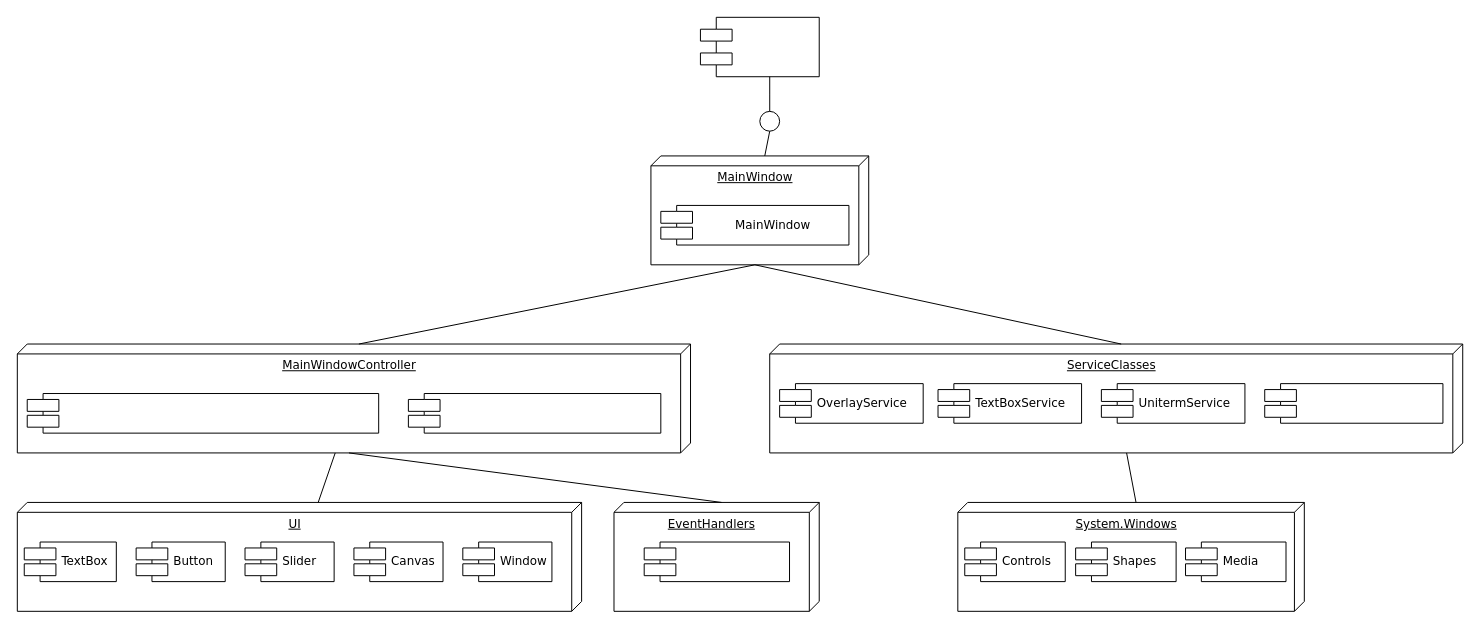
Some shapes in this 1480 by 629 pixel diagram are drawn without their labels. The shapes that lost their labels are listed below. From the top down, each one's centre as x and y in pixels, then its label:
At pixel 759 46: "WPF".
At pixel 202 413: "UI: TextBox, Button, Slider, Canvas, Window".
At pixel 534 413: "EventHandler: HandleUserInput()".
At pixel 1353 403: "MainContentService".
At pixel 716 561: "HandleUserInput".
